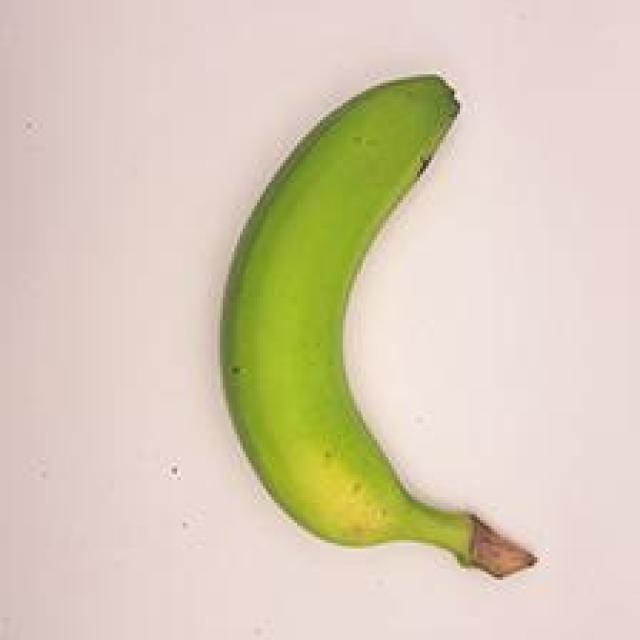Unripe: (165, 55, 568, 605)
